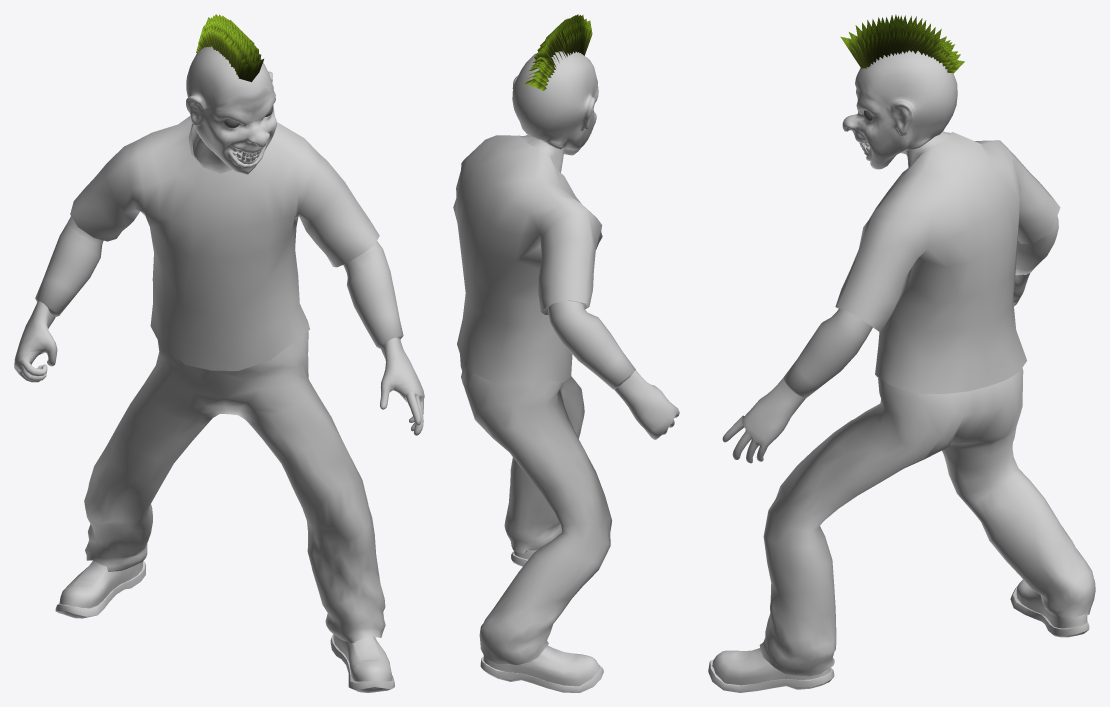
The model's file is Attack02 (55).obj.
3 views of the same model, side by side, from view 1: azimuth 30°, elevation 25°; view 2: azimuth 150°, elevation 25°; view 3: azimuth 270°, elevation 25° (orthographic). The views are drawn at different scales.
Parts seen in each view (by area): view 1: shirt, pants, head, forearm_band_002, forearm_band_01, boots, boots001, Hair, hand_left, hand_right, neck; view 2: shirt, pants, head, forearm_band_01, boots, hand_right, Hair, neck; view 3: pants, shirt, head, forearm_band_002, Hair, boots001, hand_left, boots, forearm_band_01.
Boxes of the visible parts, x1,y1,x2,y2 form: shirt: (70, 115, 379, 370); pants: (84, 331, 385, 643); head: (186, 46, 276, 174); forearm_band_002: (343, 241, 403, 348); forearm_band_01: (35, 216, 103, 317); boots: (55, 560, 145, 618); boots001: (330, 634, 394, 692); Hair: (196, 14, 263, 82); hand_left: (380, 337, 424, 435); hand_right: (14, 301, 57, 382); neck: (191, 121, 232, 173); shirt: (453, 135, 602, 383); pants: (460, 355, 612, 664); head: (512, 50, 598, 155); forearm_band_01: (548, 300, 635, 389); boots: (480, 645, 603, 692); hand_right: (614, 370, 679, 439); Hair: (524, 14, 592, 90); neck: (520, 135, 565, 172); pants: (759, 368, 1095, 676); shirt: (835, 132, 1060, 393); head: (842, 50, 957, 169); forearm_band_002: (783, 308, 872, 398); Hair: (840, 14, 964, 73); boots001: (708, 648, 834, 692); hand_left: (722, 378, 805, 463); boots: (1010, 579, 1089, 637); forearm_band_01: (1015, 216, 1058, 275).
Bounding box in the file's own units: 88.15 × 178 × 98.21.
